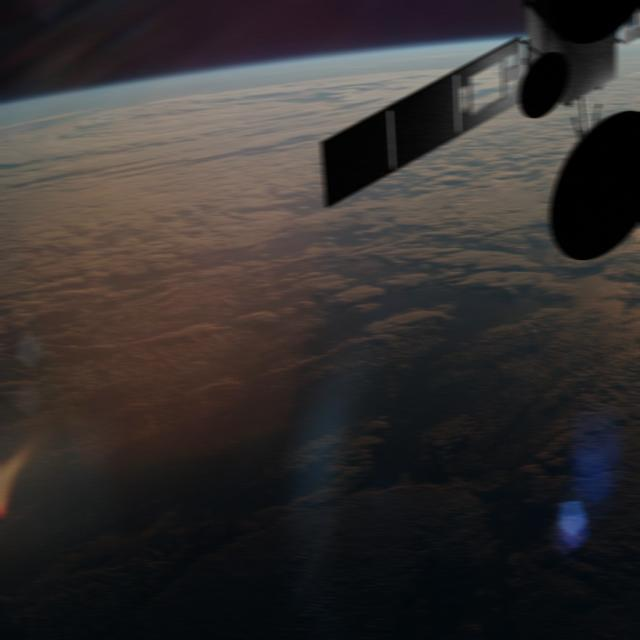satellite: (301, 0, 640, 288)
